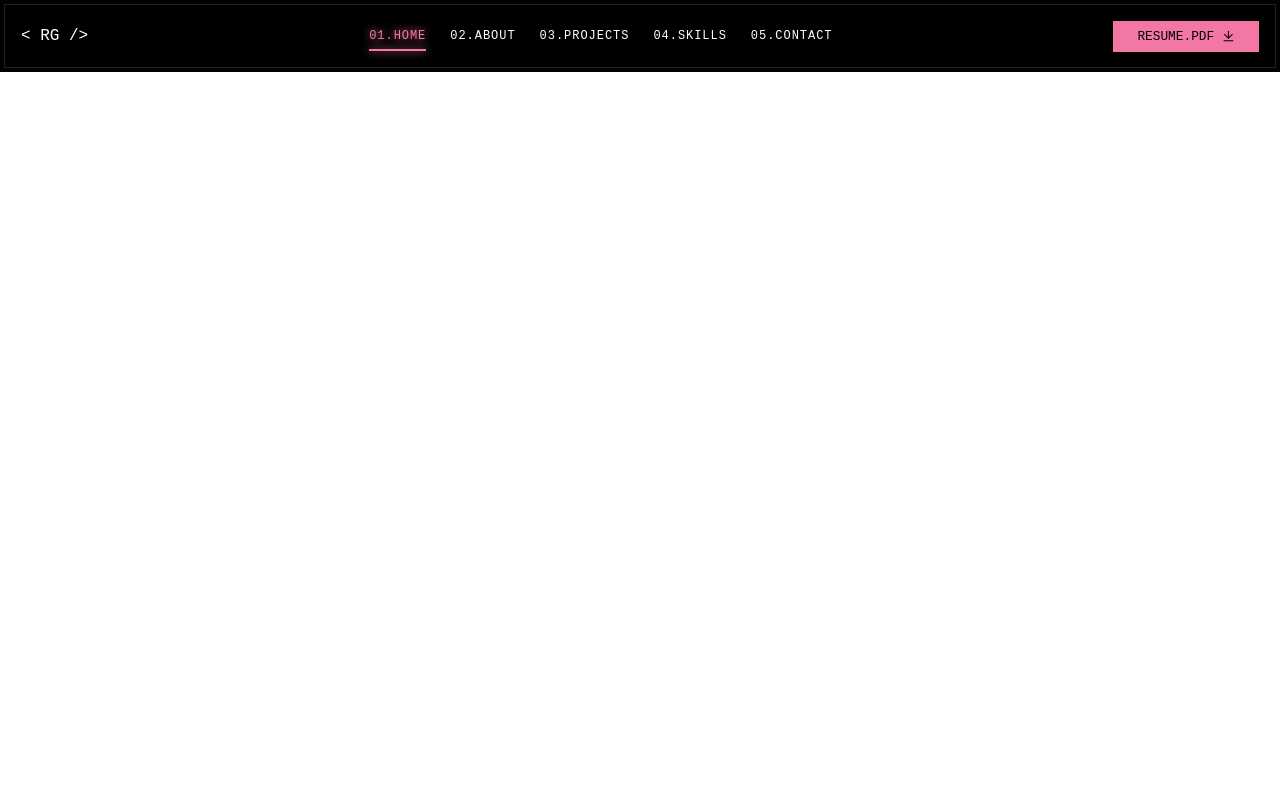
Test: Navbar › opens the resume modal
Step 1. Click the button "Resume.pdf" → {"x": 1186, "y": 36}, box [1113,20,1259,52]
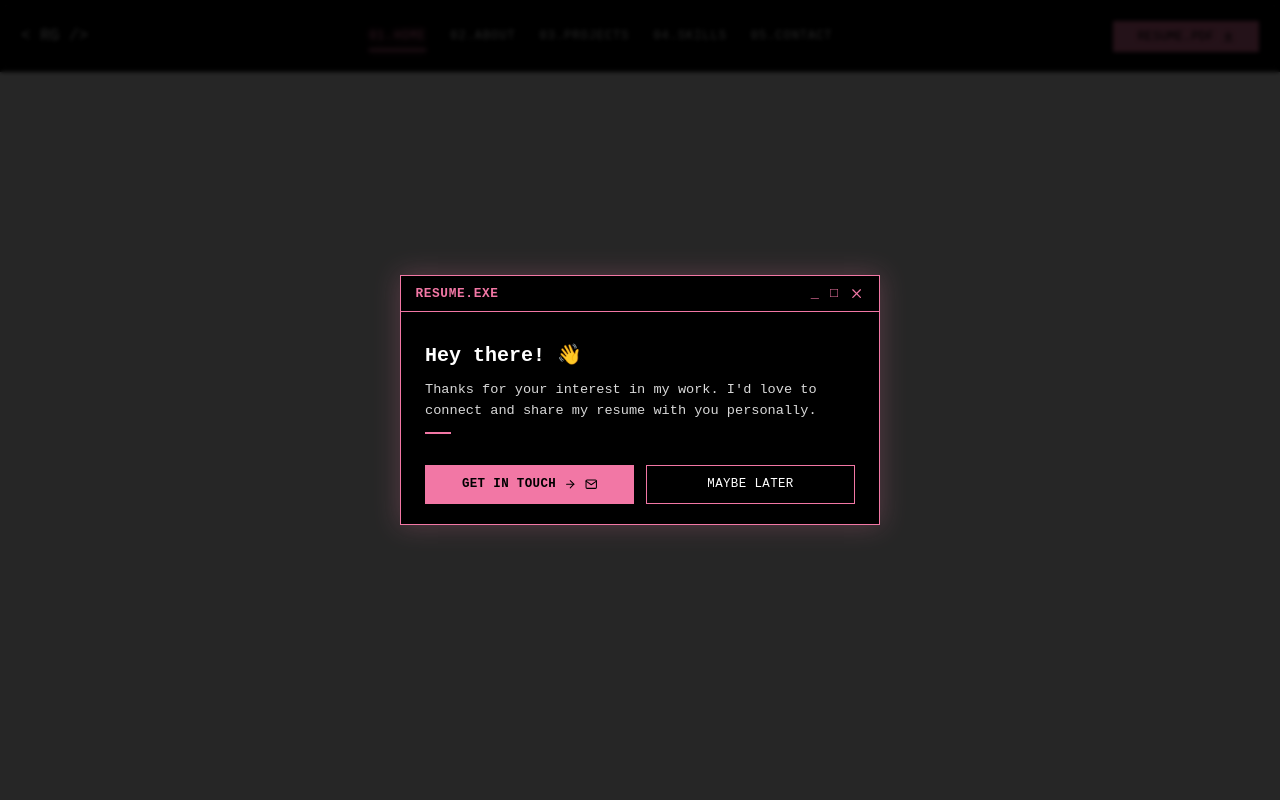
Expected: the dialog "Hey there" is shown, [400,275,880,525]
